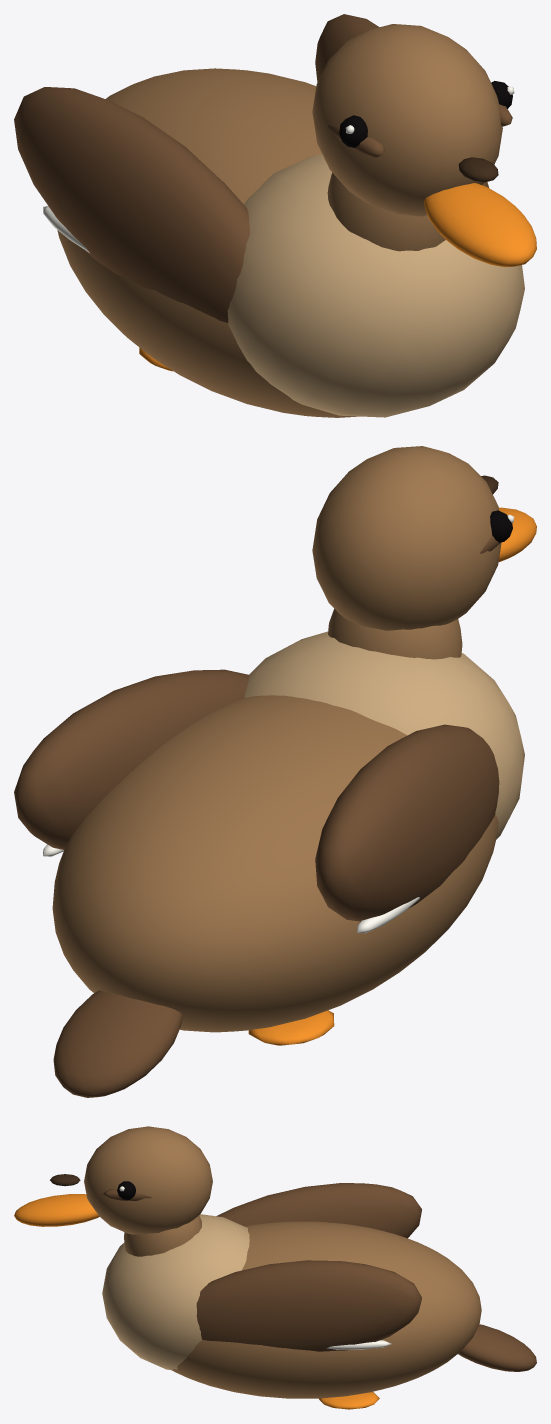
Rendered from duck.glb.
3 renders of one model, top to bottom at view 1: azimuth 30°, elevation 25°; view 2: azimuth 150°, elevation 25°; view 3: azimuth 270°, elevation 25°, orthographic. The views are drawn at different scales.
Parts seen in each view (by area): view 1: breast, wing, body, head, bill, neck, wing.001, bill_spot, eye, eye_stripe; view 2: body, head, wing, breast, wing.001, tail, neck, foot, bill; view 3: body, wing.001, breast, head, wing, tail, bill, neck, foot.001, speculum_edge.001.
Boxes of the visible parts, x1,y1,x2,y2 form: breast: (227,154,524,417); wing: (14,87,249,322); body: (57,68,358,417); head: (312,24,502,216); bill: (424,183,536,266); neck: (327,172,445,251); wing.001: (315,14,488,187); bill_spot: (458,157,498,182); eye: (339,115,367,147); eye_stripe: (328,125,384,157); body: (52,695,498,1032); head: (312,446,501,630); wing: (315,724,499,921); breast: (244,631,524,839); wing.001: (14,669,249,849); tail: (53,990,182,1097); neck: (328,608,462,659); foot: (248,1010,334,1045); bill: (498,507,536,561); body: (171,1221,481,1398); wing.001: (196,1260,421,1351); breast: (102,1214,249,1369); head: (84,1126,212,1234); wing: (216,1183,421,1238); tail: (458,1324,536,1371); bill: (14,1194,99,1226); neck: (124,1215,201,1256); foot.001: (319,1392,379,1409); speculum_edge.001: (326,1340,391,1349).
Bounding box in the file's own units: 0.7874 × 0.9155 × 1.69.
